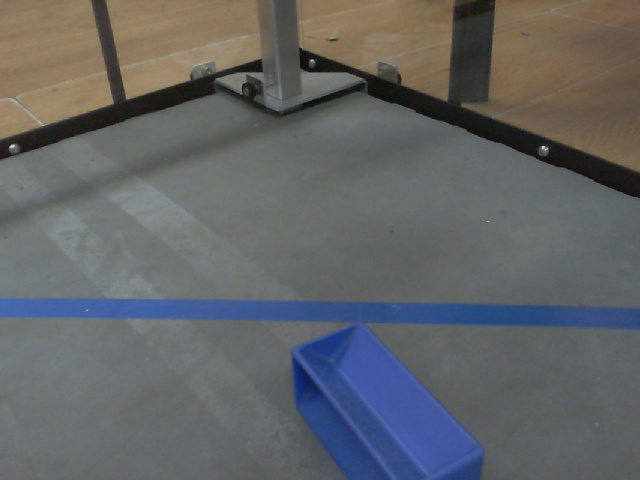BlueSample: (289, 320, 488, 480)
